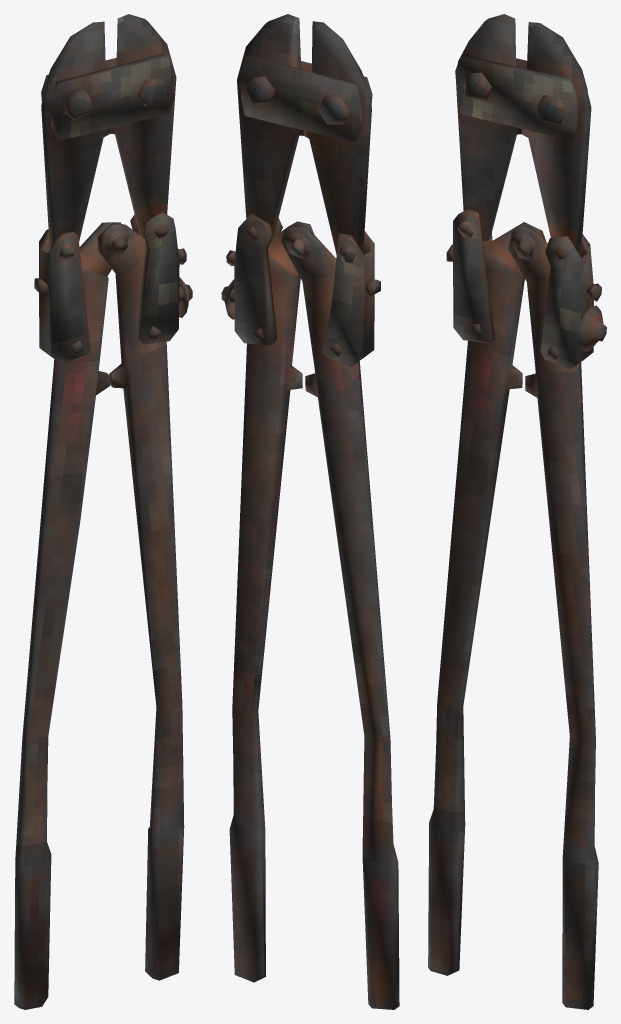
File: bolt_cutters.glb
3 views of the same model, side by side, from view 1: azimuth 30°, elevation 25°; view 2: azimuth 150°, elevation 25°; view 3: azimuth 330°, elevation 25° (orthographic).
Visible parts, largest first — view 1: bolt_cutters_01; view 2: bolt_cutters_01; view 3: bolt_cutters_01.
Part boxes in pixels (<box>): bolt_cutters_01: <box>14,14,192,1009</box>; bolt_cutters_01: <box>221,14,399,1009</box>; bolt_cutters_01: <box>428,14,606,1009</box>.
Size of the model in its own units: 0.1489 by 0.8017 by 0.036.
1 material, 1 textured.
